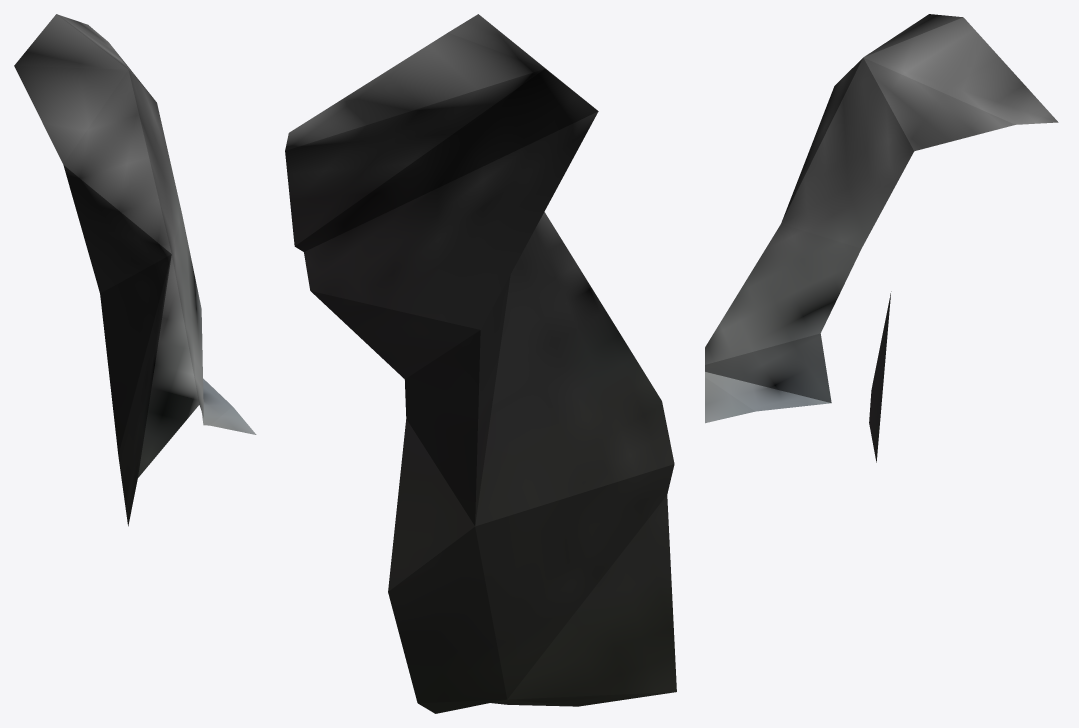
The picture shows the model from 3 angles, left to right: view 1: azimuth 30°, elevation 25°; view 2: azimuth 150°, elevation 25°; view 3: azimuth 270°, elevation 25°; orthographic projection. The views are drawn at different scales.
Size of the model in its own units: 0.0187 by 0.0825 by 0.0409.
Materials: 1 (1 with a texture image).
